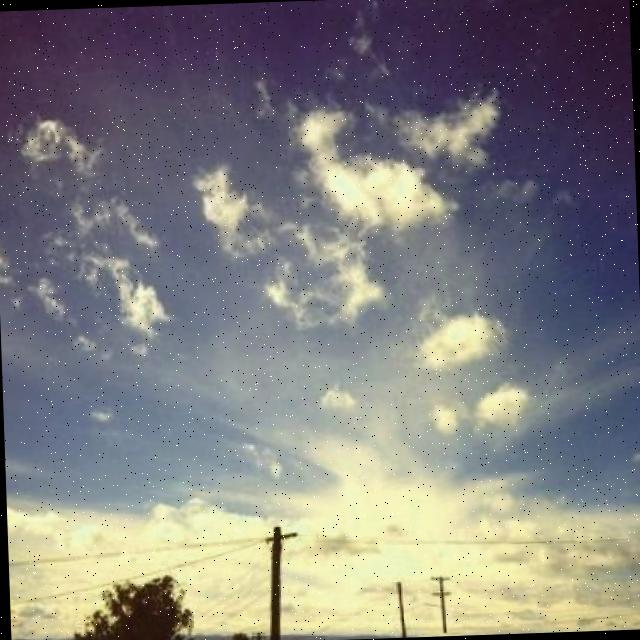Ci: (1, 13, 640, 481)
